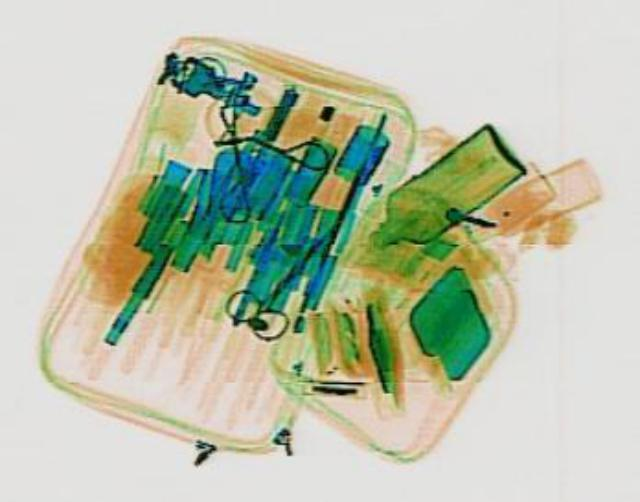Scissors: (207, 217, 356, 341)
